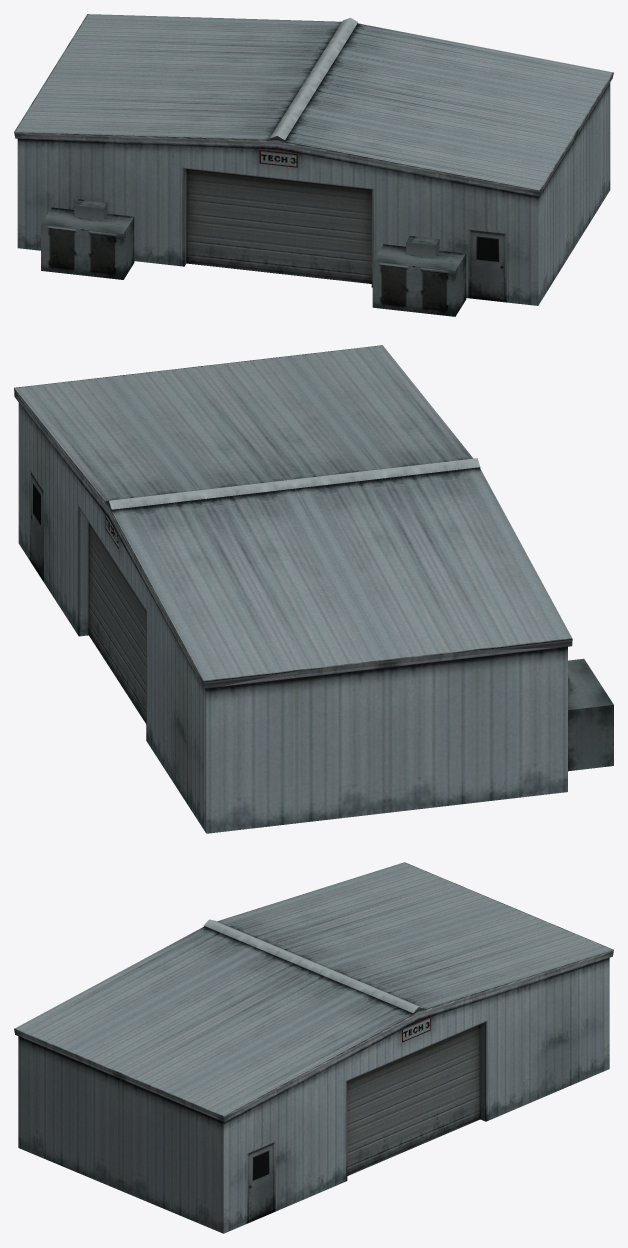
3 views of the same model, one above another, from view 1: azimuth 30°, elevation 25°; view 2: azimuth 150°, elevation 25°; view 3: azimuth 270°, elevation 25° (orthographic). The views are drawn at different scales.
Parts seen in each view (by area): view 1: City_building_023; view 2: City_building_023; view 3: City_building_023.
Part boxes in pixels (x1=…): City_building_023: x1=14, y1=14, x2=613, y2=316; City_building_023: x1=14, y1=345, x2=613, y2=833; City_building_023: x1=14, y1=862, x2=613, y2=1233.
Bounding box in the file's own units: 2469 × 2451 × 655.
Materials: 1 (1 with a texture image).
